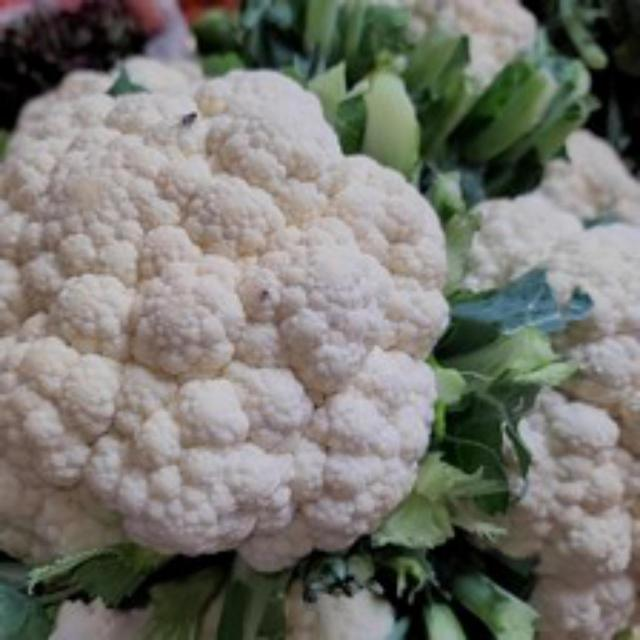cauliflower: (3, 58, 467, 604)
